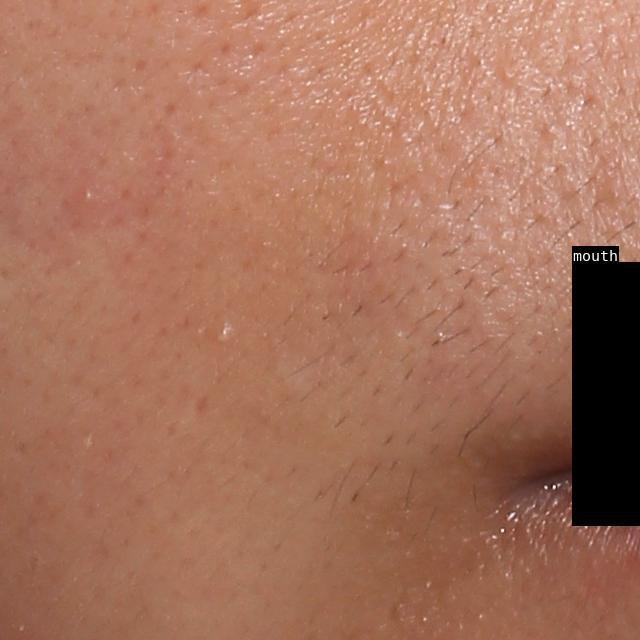comedo: (213, 322, 233, 347)
